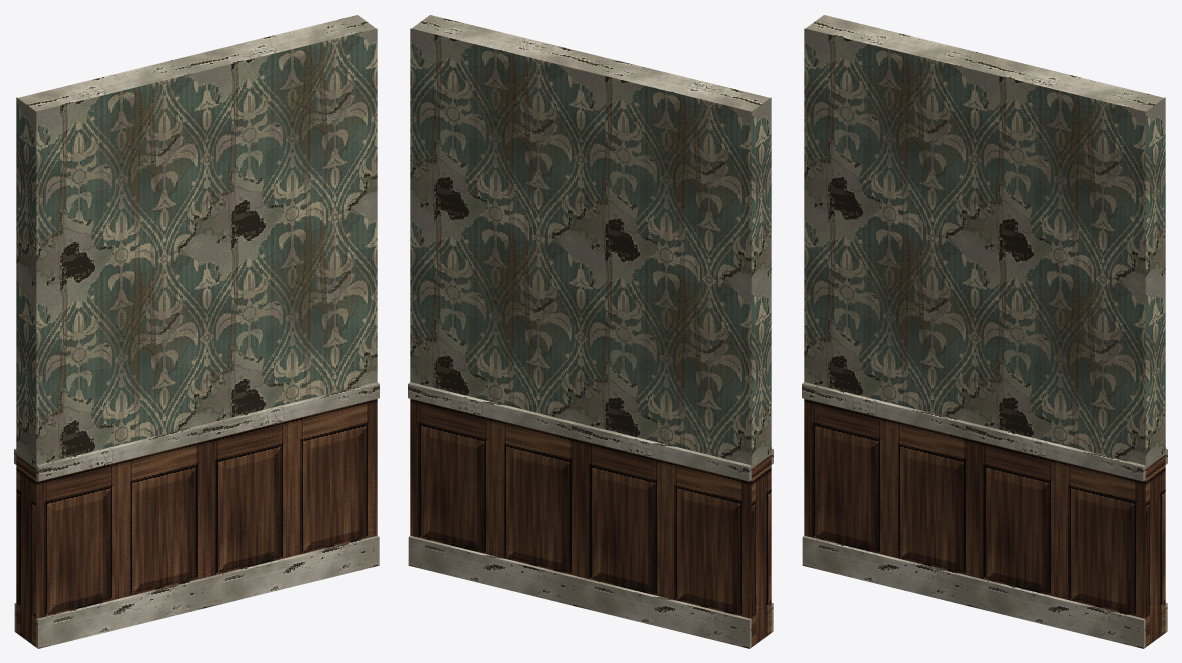
File: house_wall_damaged.glb
3 renders of one model, left to right at view 1: azimuth 30°, elevation 25°; view 2: azimuth 150°, elevation 25°; view 3: azimuth 330°, elevation 25°, orthographic.
Visible parts, largest first — view 1: house_wall_damaged; view 2: house_wall_damaged; view 3: house_wall_damaged.
Part boxes in pixels (x1,y1,x2,y2): house_wall_damaged: (14,15,379,648); house_wall_damaged: (408,15,773,648); house_wall_damaged: (802,15,1167,648).
Size of the model in its own units: 2 by 3 by 0.25.
3 materials, 3 textured.
